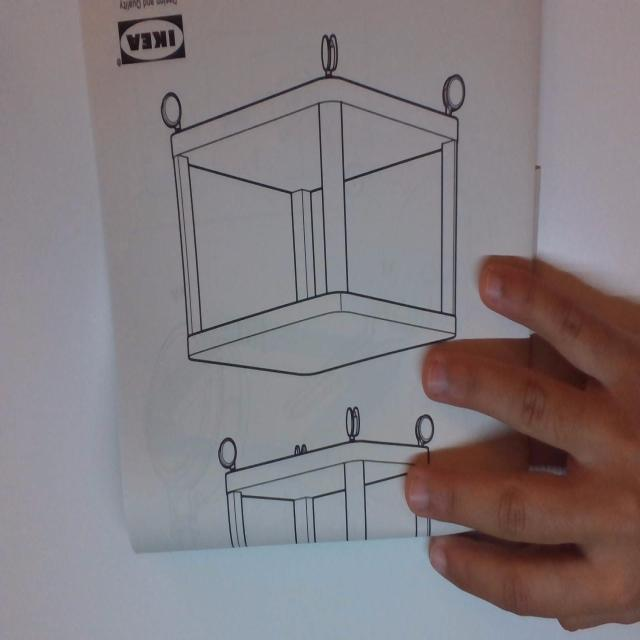Paper: (80, 0, 544, 548)
